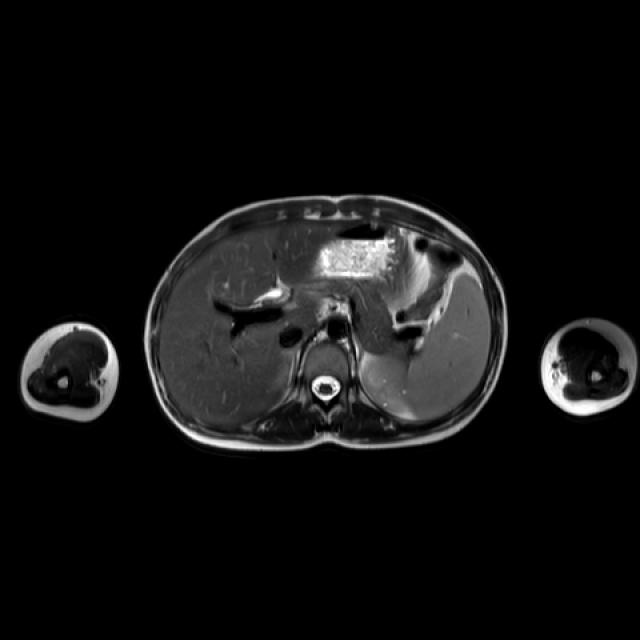sol: (365, 361, 406, 414)
